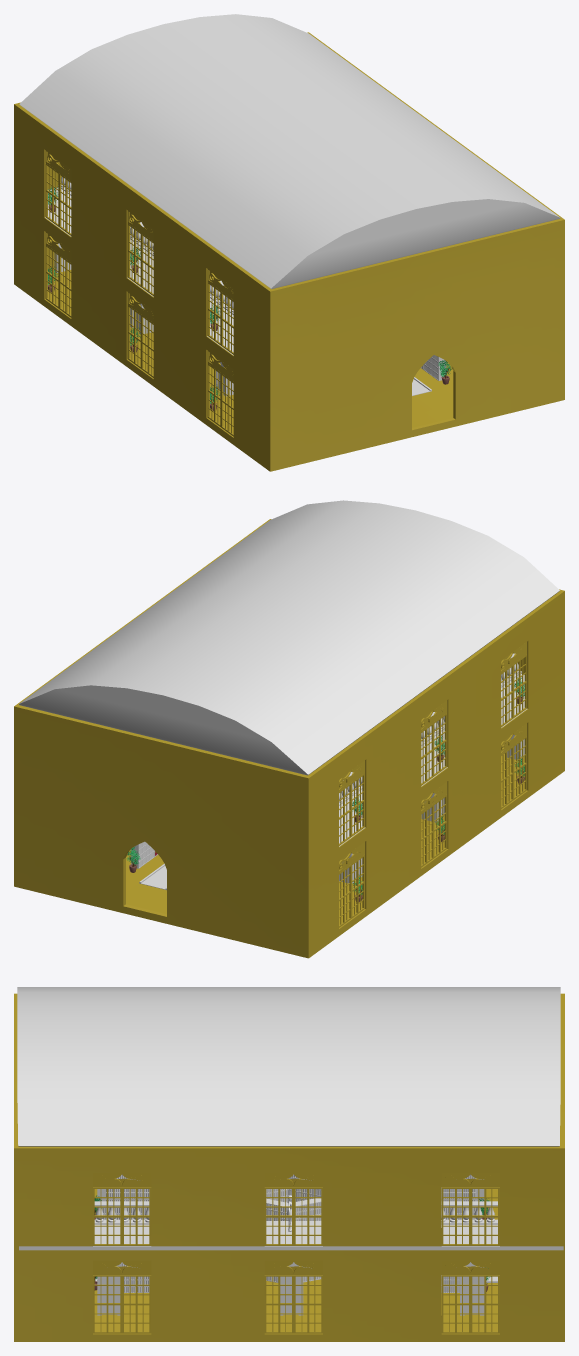
Rendered from LibraryDoored.fbx.
3 renders of one model, top to bottom at view 1: azimuth 30°, elevation 25°; view 2: azimuth 150°, elevation 25°; view 3: azimuth 270°, elevation 25°, orthographic. The views are drawn at different scales.
Parts seen in each view (by area): view 1: OuterWalls, LibraryRoof, Window1.007, Window1.001, Cube.016, Window1.006, Window1.008, Window1, Window1.002; view 2: OuterWalls, LibraryRoof, Window1.007, Window1.001, Cube.016, Window1.006, Window1, Window1.008, Window1.002; view 3: OuterWalls, LibraryRoof, Cube.001, Window1.009, Window1.010, Window1.003, Window1.011, Window1.004, Window1.005, ArchesBase.001, ArchesBase.002, Shelf.010.
Part boxes in pixels (x1,y1,x2,y2): OuterWalls: (14,32,564,471); LibraryRoof: (19,14,560,289); Window1.007: (127,292,153,377); Window1.001: (127,210,153,295); Cube.016: (45,187,233,355); Window1.006: (207,351,233,436); Window1.008: (45,232,71,317); Window1: (207,269,233,354); Window1.002: (45,150,71,235); OuterWalls: (14,519,564,958); LibraryRoof: (19,500,559,775); Window1.007: (421,782,447,867); Window1.001: (421,700,447,785); Cube.016: (339,673,527,846); Window1.006: (501,723,526,808); Window1: (501,642,526,726); Window1.008: (339,842,364,927); Window1.002: (339,760,364,845); OuterWalls: (14,993,564,1341); LibraryRoof: (17,987,560,1146); Cube.001: (19,1221,563,1250); Window1.009: (93,1260,151,1333); Window1.010: (264,1260,322,1333); Window1.003: (93,1173,151,1245); Window1.011: (441,1260,499,1333); Window1.004: (264,1173,322,1245); Window1.005: (441,1173,499,1245); ArchesBase.001: (102,1262,479,1314); ArchesBase.002: (97,1262,484,1315); Shelf.010: (266,1198,321,1282).
Size of the model in its own units: 1542 by 1127 by 2319.
